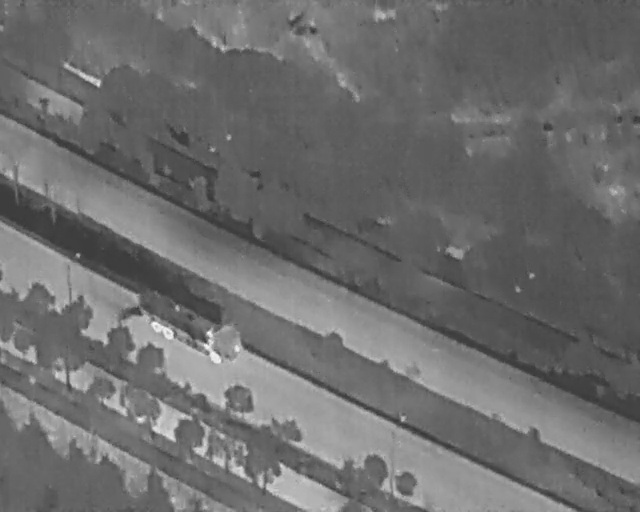OtherVehicle: (129, 282, 251, 371)
